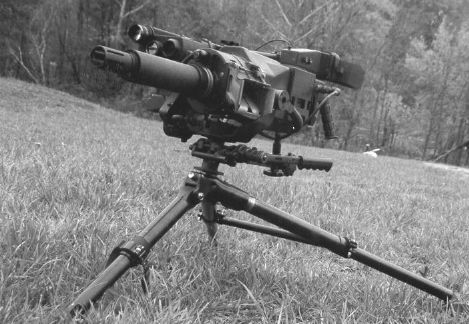rifle: (69, 15, 419, 288)
